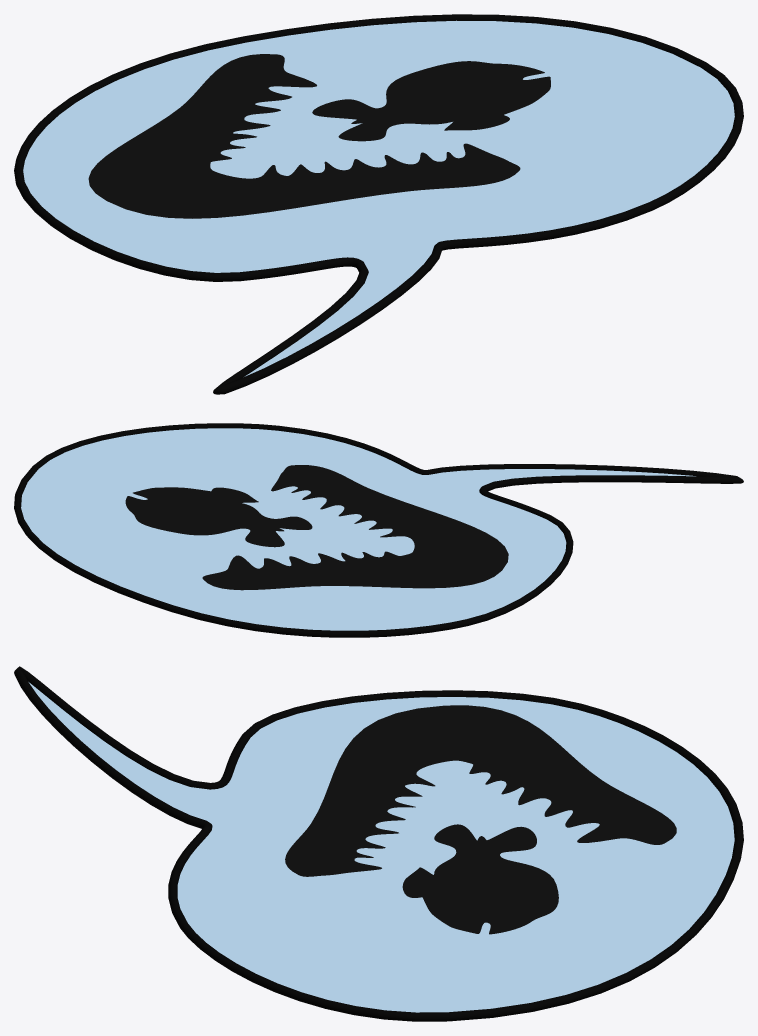
The model's file is eaten.fbx.
3 views of the same model, one above another, from view 1: azimuth 30°, elevation 25°; view 2: azimuth 150°, elevation 25°; view 3: azimuth 270°, elevation 25° (orthographic). The views are drawn at different scales.
Visible parts, largest first — view 1: BezierCircle.019, BezierCircle.020, BezierCircle.018; view 2: BezierCircle.019, BezierCircle.020, BezierCircle.018; view 3: BezierCircle.019, BezierCircle.020, BezierCircle.018.
Boxes of the visible parts, left/top/right/bottom form: BezierCircle.019: left=23, top=20, right=734, bottom=376; BezierCircle.020: left=88, top=54, right=550, bottom=218; BezierCircle.018: left=14, top=14, right=743, bottom=394; BezierCircle.019: left=21, top=428, right=695, bottom=630; BezierCircle.020: left=125, top=465, right=508, bottom=590; BezierCircle.018: left=14, top=423, right=743, bottom=637; BezierCircle.019: left=28, top=682, right=734, bottom=1012; BezierCircle.020: left=285, top=705, right=676, bottom=934; BezierCircle.018: left=14, top=666, right=743, bottom=1021.
Size of the model in its own units: 179 by 4.17 by 157.
